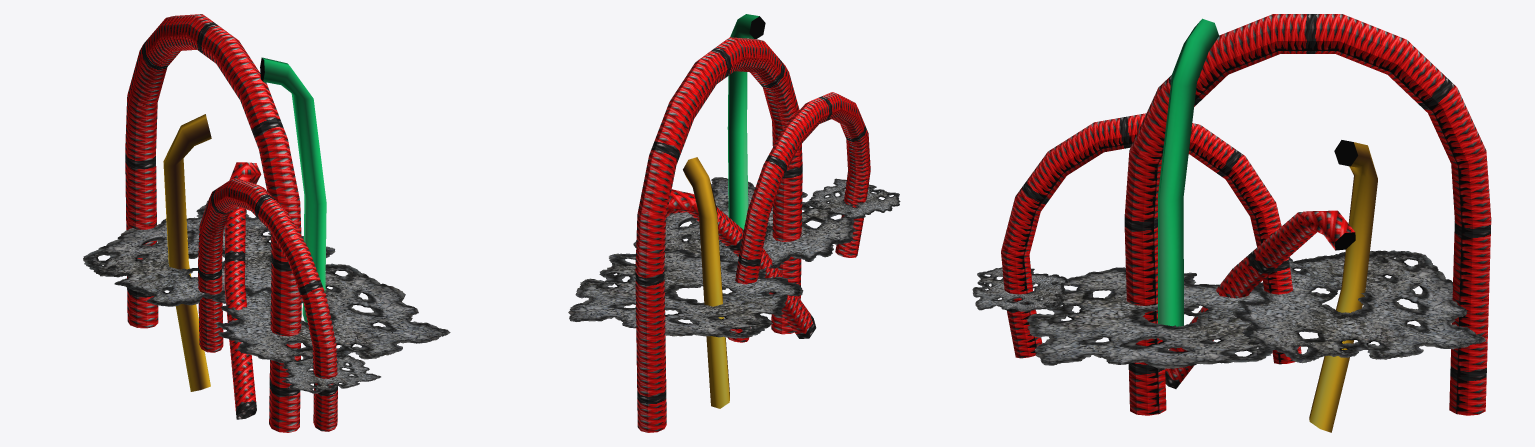
Rendered from obs_cable.fbx.
3 views of the same model, side by side, from view 1: azimuth 30°, elevation 25°; view 2: azimuth 150°, elevation 25°; view 3: azimuth 270°, elevation 25° (orthographic). The views are drawn at different scales.
Parts seen in each view (by area): view 1: obs_cable; view 2: obs_cable; view 3: obs_cable.
Part boxes in pixels (x1,y1,x2,y2): obs_cable: (83,14,450,432); obs_cable: (568,14,900,432); obs_cable: (972,14,1491,432).
Size of the model in its own units: 201 by 228 by 278.
